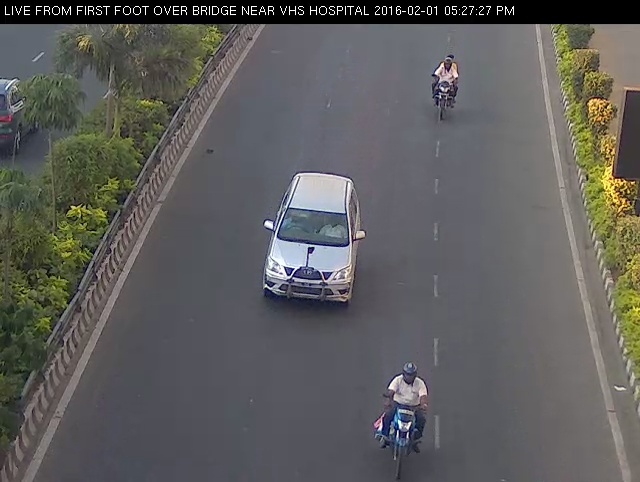Car: (248, 150, 372, 323)
Person: (369, 353, 434, 478), (426, 52, 463, 122)
